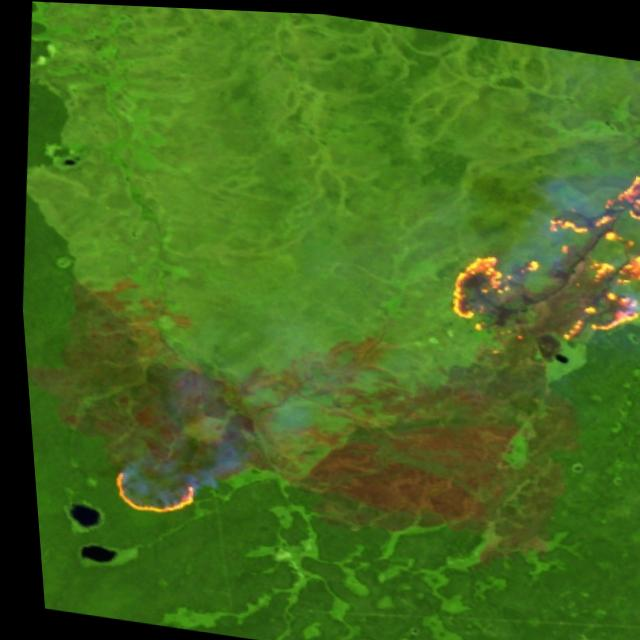fire: (427, 135, 640, 360), (92, 450, 204, 526)
